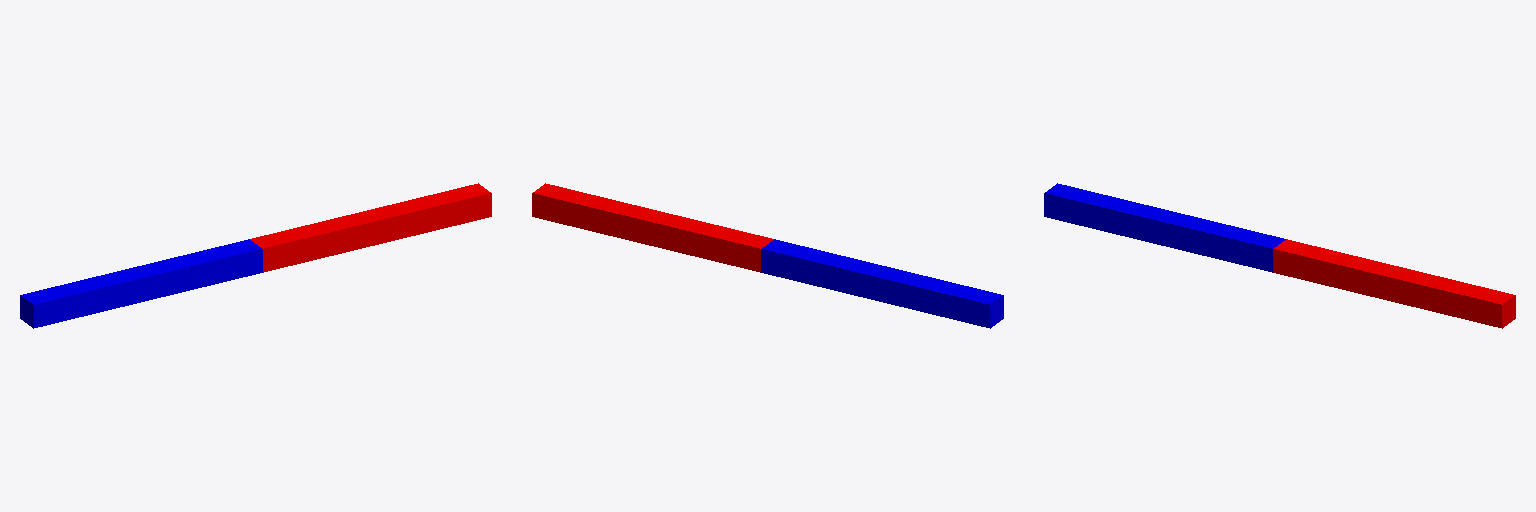
The robot description file, URDF, robot "acrobot":
<?xml version="1.0" ?>
<robot name="acrobot">

  <link name="link1">
    <inertial>
      <mass value="1.0" />
      <origin xyz="0.5 0 0" />
      <inertia ixx="0.1" ixy="0" ixz="0" iyy="0.1" iyz="0" izz="0.1" />
    </inertial>
    <visual>
      <origin xyz="0.5 0 0" rpy="0 0 0" />
      <geometry>
        <box size="1.0 0.1 0.1" />
      </geometry>
      <material name="blue">
        <color rgba="0.0 0.0 1.0 1.0" />
      </material>
    </visual>
    <collision>
      <origin xyz="0.5 0 0" rpy="0 0 0" />
      <geometry>
        <box size="1.0 0.1 0.1" />
      </geometry>
    </collision>
  </link>

  <link name="link2">
    <inertial>
      <mass value="1.0" />
      <origin xyz="0.5 0 0" /> <!-- Offset along z-axis to avoid collision -->
      <inertia ixx="0.1" ixy="0" ixz="0" iyy="0.1" iyz="0" izz="0.1" />
    </inertial>
    <visual>
      <origin xyz="0.5 0 0" rpy="0 0 0" /> <!-- Offset along z-axis to avoid collision -->
      <geometry>
        <box size="1.0 0.1 0.1" />
      </geometry>
      <material name="red">
        <color rgba="1.0 0.0 0.0 1.0" />
      </material>
    </visual>
    <collision>
      <origin xyz="0.5 0 0" rpy="0 0 0" /> <!-- Offset along z-axis to avoid collision -->
      <geometry>
        <box size="1.0 0.1 0.1" />
      </geometry>
    </collision>
  </link>


  <joint name="joint1" type="revolute">
    <parent link="link1" />
    <child link="link2" />
    <origin xyz="1.0 0 0" rpy="0 0 0" />
    <axis xyz="0 1 0" />
    <limit effort="1000.0" velocity="1.0" /> 
    <dynamics damping="0" friction="0" />
  </joint>

</robot>

--- What the picture shows (computed from the rendered views, not written in the file) ---
Views: 3 orthographic renders of the robot side by side, from view 1: azimuth 30°, elevation 25°; view 2: azimuth 150°, elevation 25°; view 3: azimuth 330°, elevation 25°.
Robot: acrobot — 2 links, 1 joints (1 revolute); root link link1; default pose: every joint at zero.
Visible links, largest first — view 1: link1, link2; view 2: link1, link2; view 3: link2, link1.
Link boxes in pixels (x1=…): link1: x1=20, y1=239, x2=262, y2=328; link2: x1=250, y1=183, x2=491, y2=272; link1: x1=761, y1=239, x2=1003, y2=328; link2: x1=532, y1=183, x2=773, y2=272; link2: x1=1273, y1=239, x2=1515, y2=328; link1: x1=1044, y1=183, x2=1285, y2=272.
Size in the robot's own frame: 2 by 0.1 by 0.1 metres.
Geometry: primitives only (box / cylinder / sphere), no mesh files.
